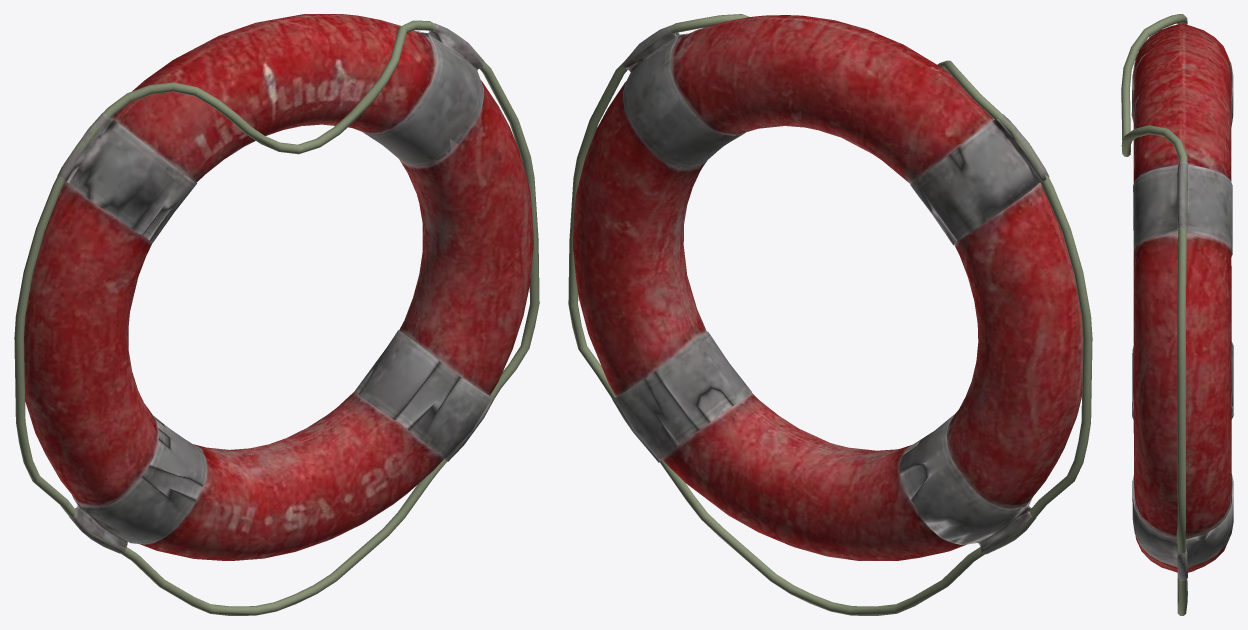
Rendered from lifebuoy.glb.
3 renders of one model, left to right at view 1: azimuth 30°, elevation 25°; view 2: azimuth 150°, elevation 25°; view 3: azimuth 270°, elevation 25°, orthographic. The views are drawn at different scales.
Parts seen in each view (by area): view 1: lifebuoy; view 2: lifebuoy; view 3: lifebuoy.
Boxes of the visible parts, x1,y1,x2,y2 form: lifebuoy: (14, 14, 539, 615); lifebuoy: (568, 14, 1092, 615); lifebuoy: (1121, 14, 1233, 615).
Size of the model in its own units: 0.783 by 0.8412 by 0.1548.
Materials: 1 (1 with a texture image).
